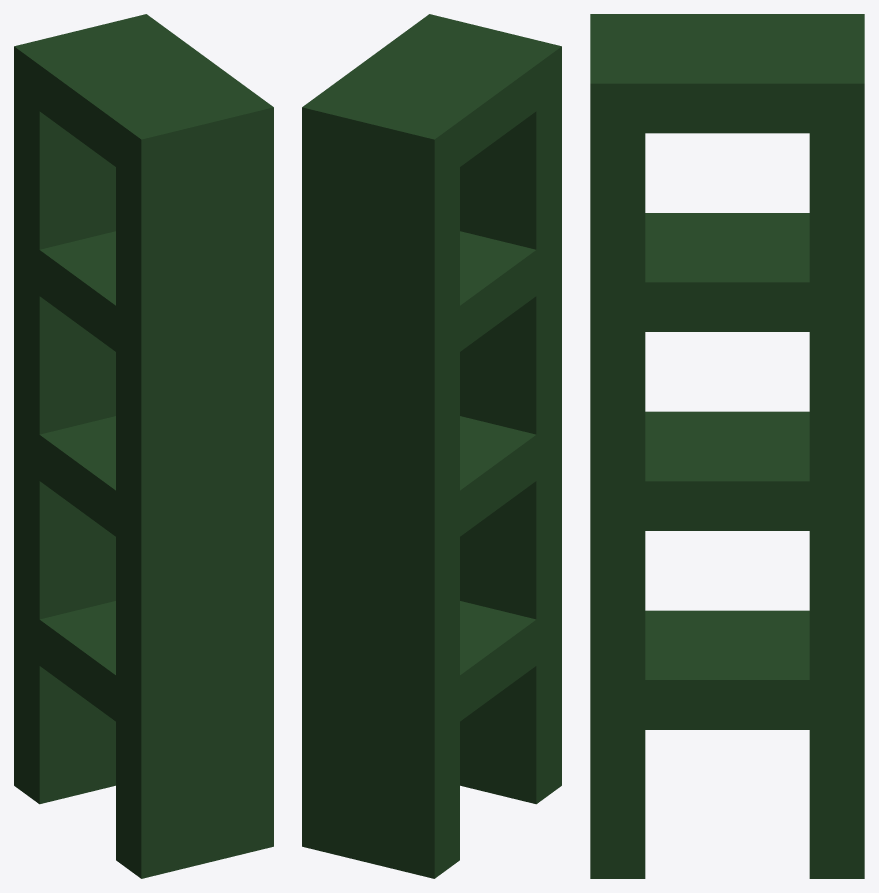
Rendered from vorsignal_mast.obj.
The picture shows the model from 3 angles, left to right: view 1: azimuth 30°, elevation 25°; view 2: azimuth 150°, elevation 25°; view 3: azimuth 270°, elevation 25°; orthographic projection. The views are drawn at different scales.
Parts seen in each view (by area): view 1: all; view 2: all; view 3: all.
Boxes of the visible parts, <box> form: all: <box>14,14,273,878</box>; all: <box>302,14,561,878</box>; all: <box>590,14,864,878</box>.
Size of the model in its own units: 0.3 by 1.6 by 0.5.
1 material, 1 textured.
